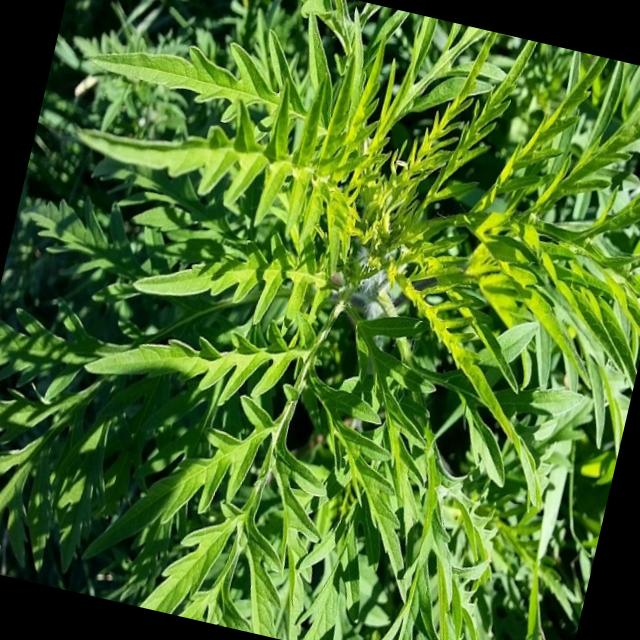ambrosia: (41, 0, 451, 304)
